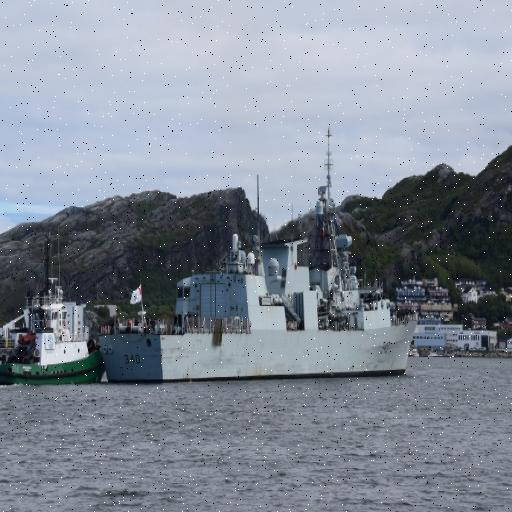Fragata: (92, 120, 421, 392)
